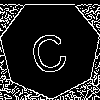C: (25, 22, 71, 76)
